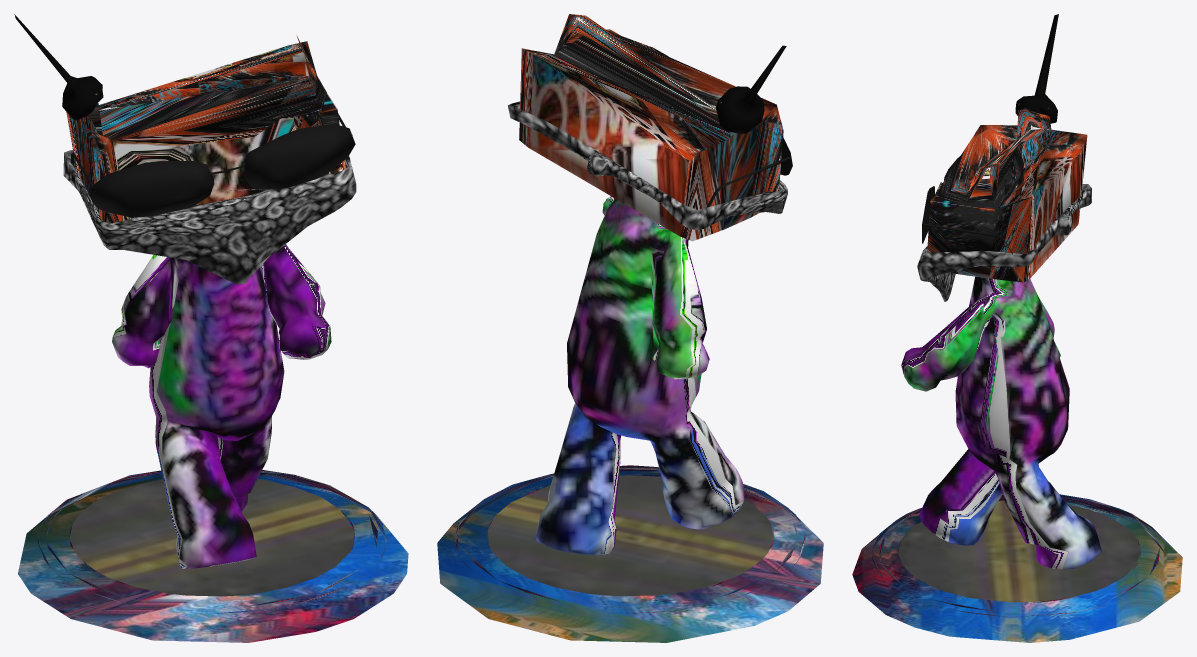
3 renders of one model, left to right at view 1: azimuth 30°, elevation 25°; view 2: azimuth 150°, elevation 25°; view 3: azimuth 270°, elevation 25°, orthographic. The views are drawn at different scales.
Bounding box in the file's own units: 1.47 × 2.32 × 1.43.
Materials: 7 (5 with a texture image).
